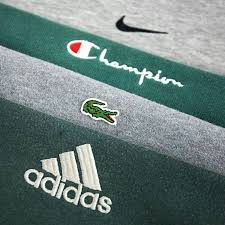Lacoste: (80, 96, 120, 127)
adidas: (24, 140, 111, 213)
champion: (62, 39, 182, 88)
nike: (114, 15, 169, 35)
